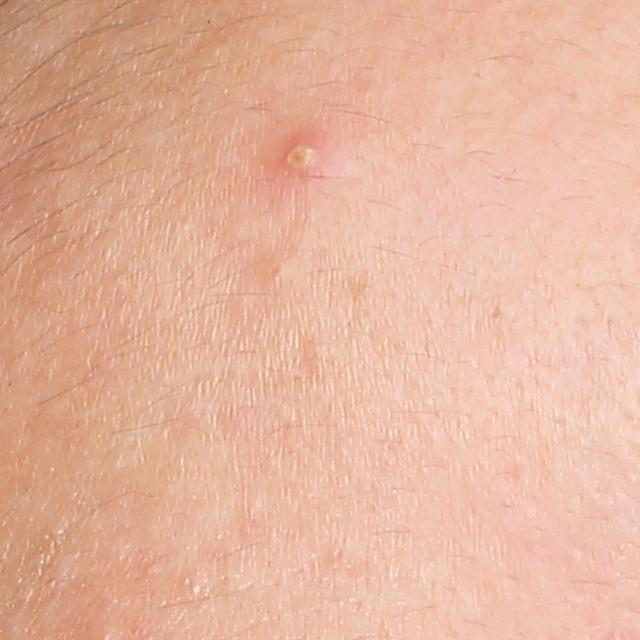pustule: (280, 137, 322, 173)
